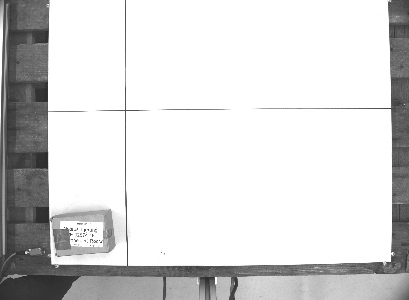b6: (47, 208, 118, 258)
